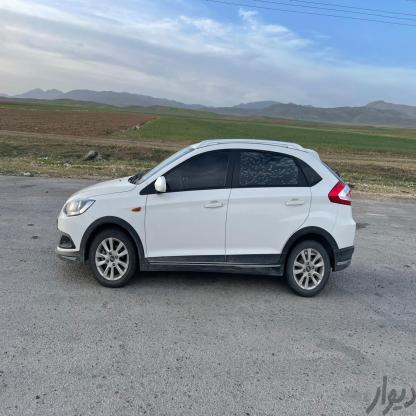Car: (55, 140, 357, 294)
